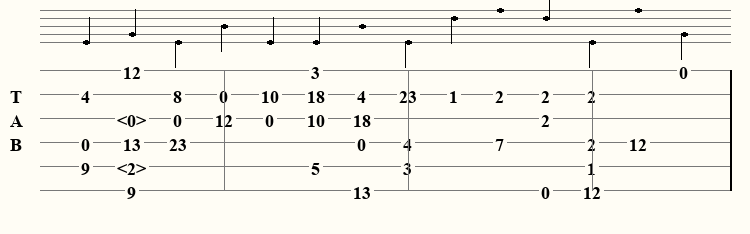0: (81, 134, 94, 150), (173, 110, 186, 126), (219, 86, 232, 102), (265, 110, 278, 126), (357, 134, 370, 150), (541, 182, 554, 198), (679, 62, 692, 78)
1: (449, 86, 462, 102), (587, 158, 600, 174)
10: (261, 86, 283, 102), (307, 110, 329, 126)
12: (123, 62, 145, 78), (215, 110, 237, 126), (583, 182, 605, 198), (629, 134, 651, 150)
13: (123, 134, 145, 150), (353, 182, 375, 198)
18: (307, 86, 329, 102), (353, 110, 375, 126)
2: (495, 86, 508, 102), (541, 86, 554, 102), (541, 110, 554, 126), (587, 134, 600, 150), (587, 86, 600, 102)
23: (169, 134, 191, 150), (399, 86, 421, 102)
3: (311, 62, 324, 78), (403, 158, 416, 174)
4: (81, 86, 94, 102), (357, 86, 370, 102), (403, 134, 416, 150)
5: (311, 158, 324, 174)
7: (495, 134, 508, 150)
8: (173, 86, 186, 102)
9: (81, 158, 94, 174), (127, 182, 140, 198)
harmonic: (117, 110, 150, 126), (117, 158, 150, 174)
